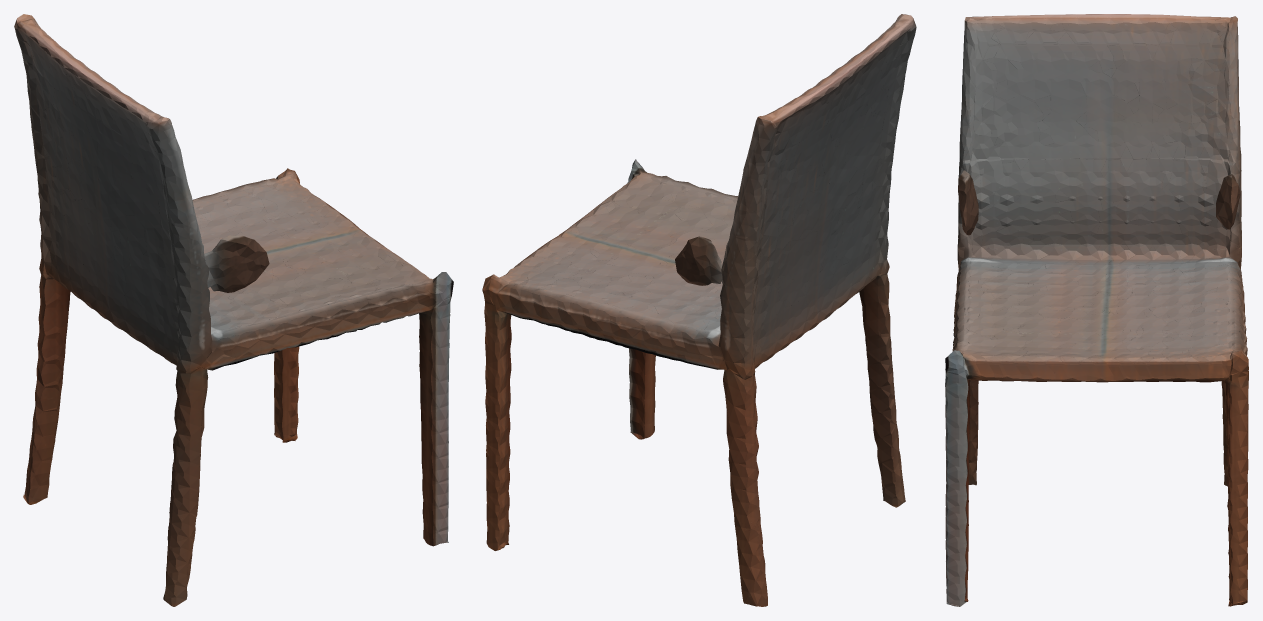
Rendered from elem_94_115_206_213_3_8.obj.
The picture shows the model from 3 angles, left to right: view 1: azimuth 30°, elevation 25°; view 2: azimuth 150°, elevation 25°; view 3: azimuth 270°, elevation 25°; orthographic projection. The views are drawn at different scales.
Size of the model in its own units: 0.4434 by 0.7012 by 0.4158.
Materials: 1 (1 with a texture image).
